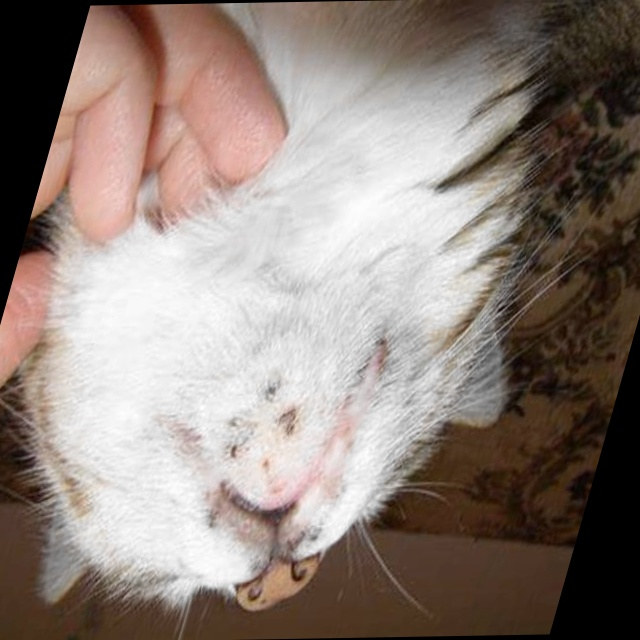acne: (210, 376, 311, 457)
